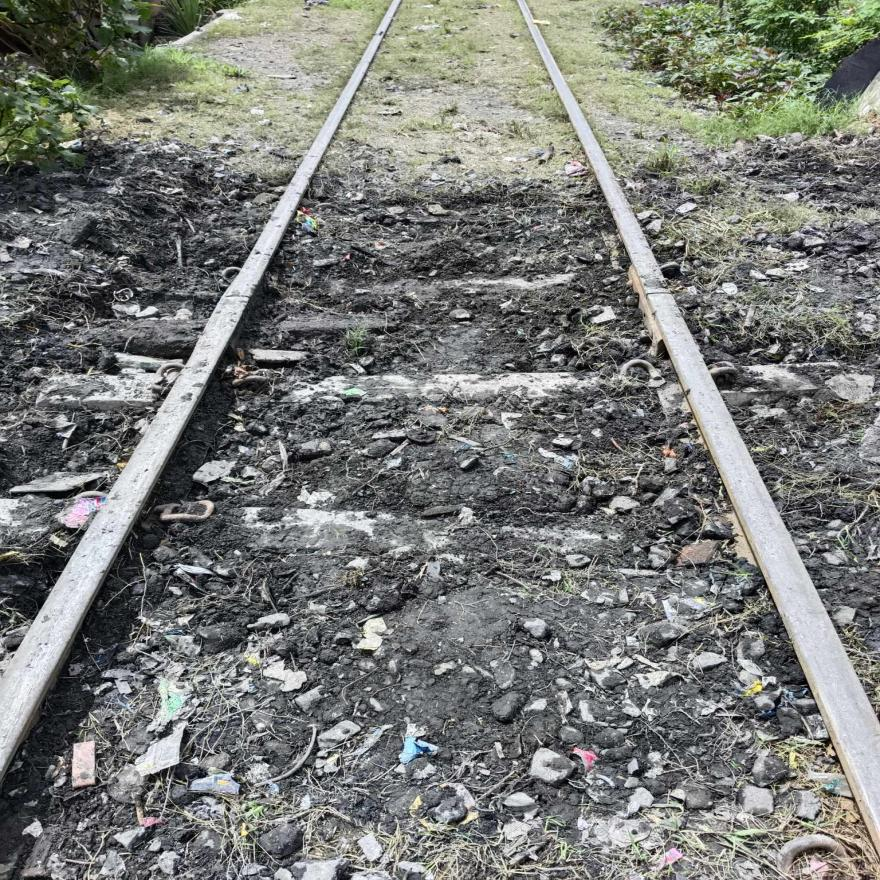railway-gap: (184, 261, 288, 327), (616, 262, 704, 329)
